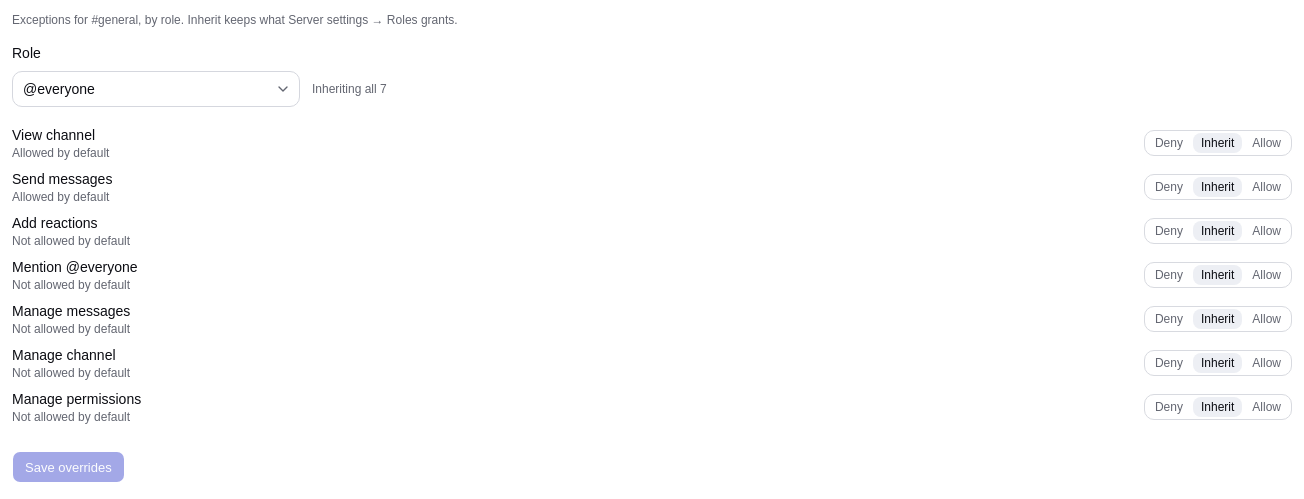
ChannelPermissions › offers roles alone, and no members
Click the dropdown named "Role" at (59, 89), box [12,71,300,107]
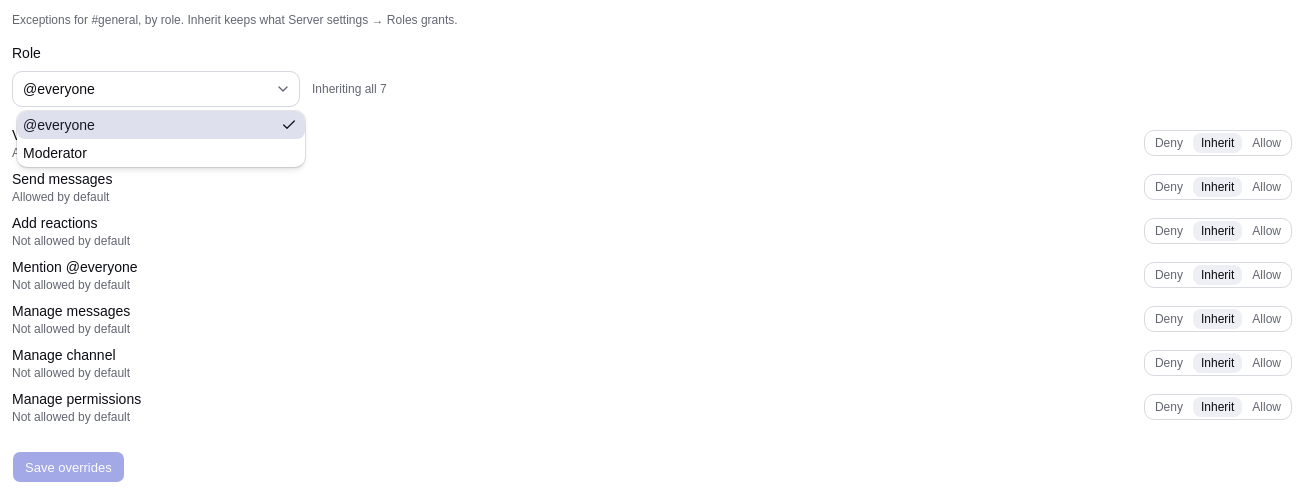
Now the option "@everyone" is shown, box [17,111,305,139]
Now the option "Moderator" is shown, box [23,145,87,161]
